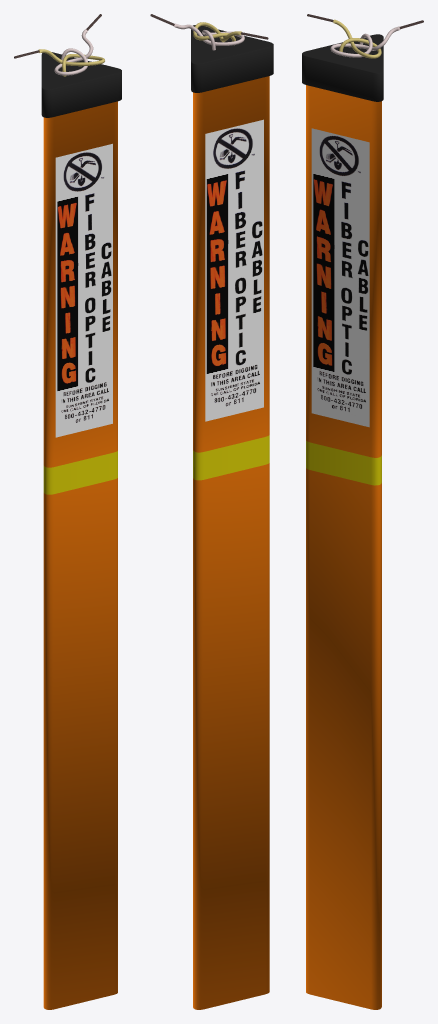
The model's file is FibreOpticHookUpSpot.fbx.
3 renders of one model, left to right at view 1: azimuth 30°, elevation 25°; view 2: azimuth 150°, elevation 25°; view 3: azimuth 330°, elevation 25°, orthographic. The views are drawn at different scales.
Visible parts, largest first — view 1: Triangle.001; view 2: Triangle.001; view 3: Triangle.001.
Part boxes in pixels (bbox=[...]): Triangle.001: bbox=[14, 14, 121, 1009]; Triangle.001: bbox=[150, 14, 273, 1009]; Triangle.001: bbox=[302, 14, 423, 1009].
Bounding box in the file's own units: 14.87 × 134 × 10.25.
